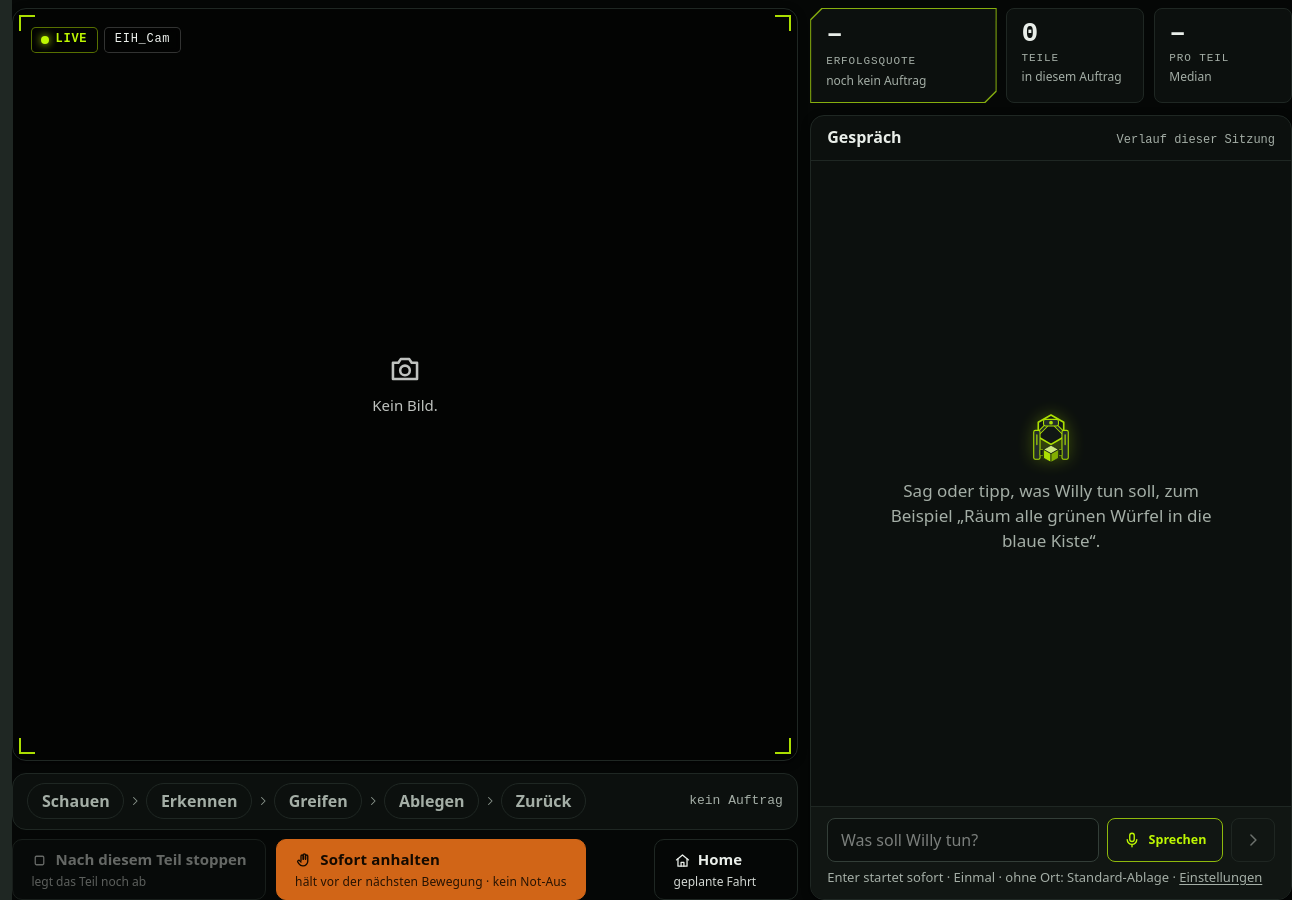
Test: Enter and a sort (the owner, 2026-10-09) › opens the card for a note on any rule, says which rule, and starts nothing
This screenshot has width=1292, height=900.
(page scrolled)
Expected: the text "Enter startet sofort" is shown, left=827, top=868, right=1169, bottom=886
In the field named "Befehl an Willy": (963, 840) left=827, top=818, right=1099, bottom=862, type "Grüne Teile in die gelbe Kiste, rote in die blaue"
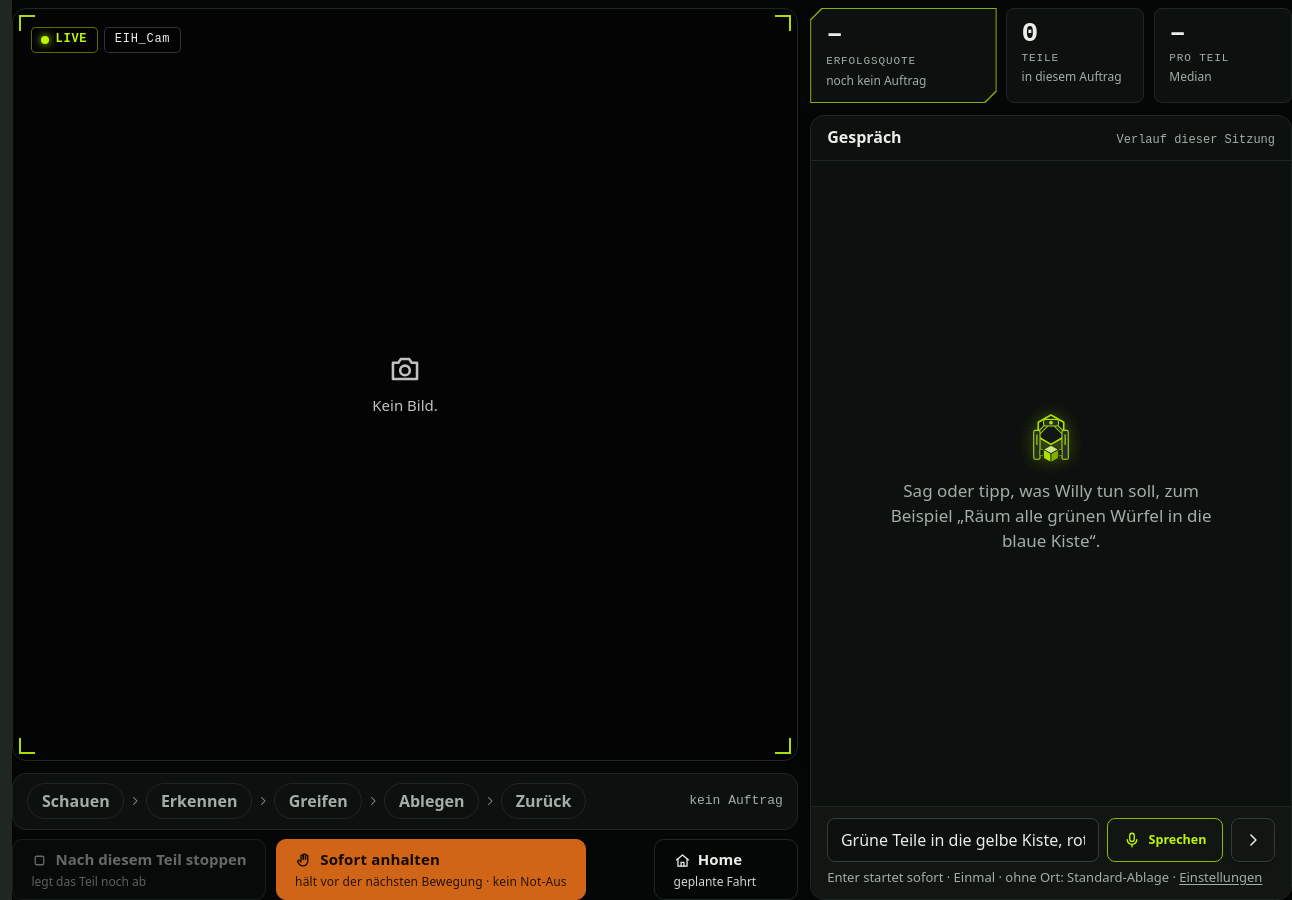
Press Enter in the field named "Befehl an Willy", box left=827, top=818, right=1099, bottom=862
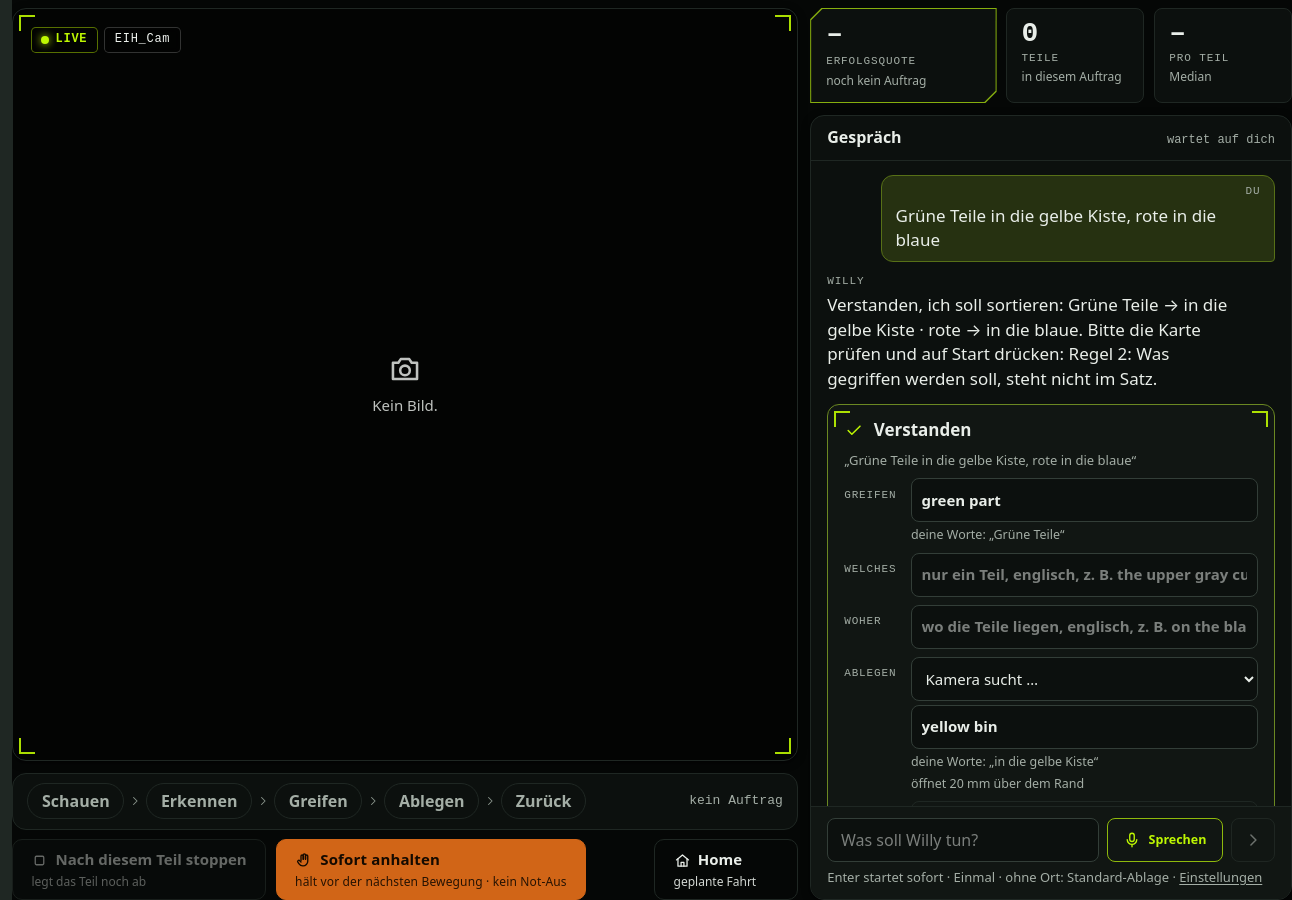
Expected: the text "Verstanden, ich soll sortieren: Grüne Teile → in die gelbe Kiste · rote → in die blaue. Bitte die Karte prüfen und auf S" is shown, left=827, top=293, right=1227, bottom=390
